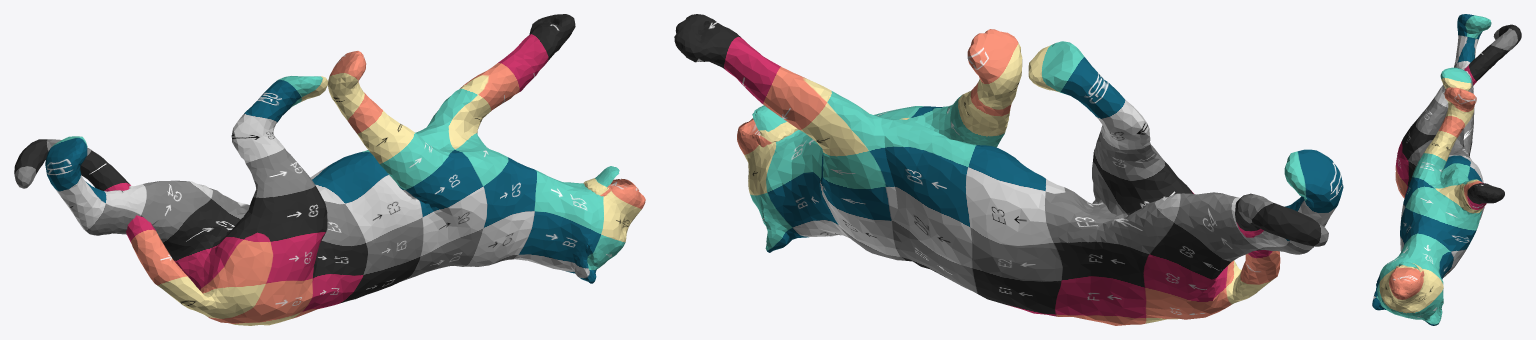
The model's file is horse_03-cougar_03.obj.
The picture shows the model from 3 angles, left to right: view 1: azimuth 30°, elevation 25°; view 2: azimuth 150°, elevation 25°; view 3: azimuth 270°, elevation 25°; orthographic projection. The views are drawn at different scales.
Parts seen in each view (by area): view 1: horse_03-cougar_03_export; view 2: horse_03-cougar_03_export; view 3: horse_03-cougar_03_export.
Part boxes in pixels (x1,y1,x2,y2): horse_03-cougar_03_export: [14, 14, 645, 325]; horse_03-cougar_03_export: [674, 14, 1343, 325]; horse_03-cougar_03_export: [1372, 14, 1521, 325].
Size of the model in its own units: 1.19 by 0.4973 by 0.3967.
